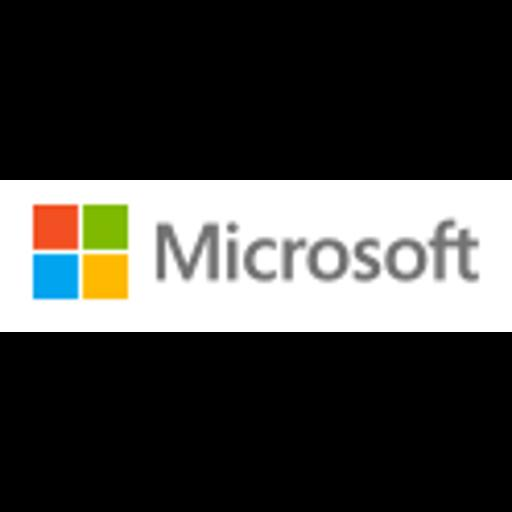Outlook: (0, 180, 512, 332)
